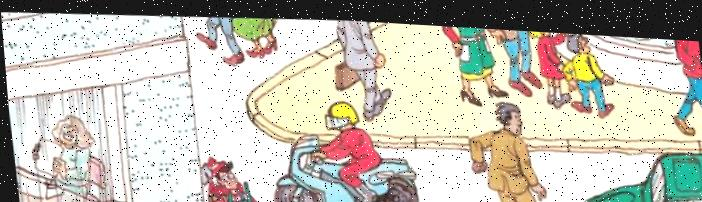waldo: (204, 153, 236, 187)
